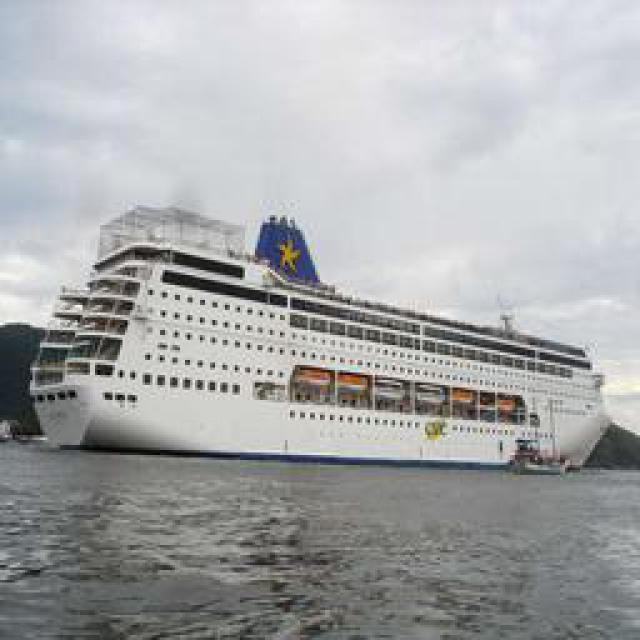Ship: (20, 221, 610, 474)
